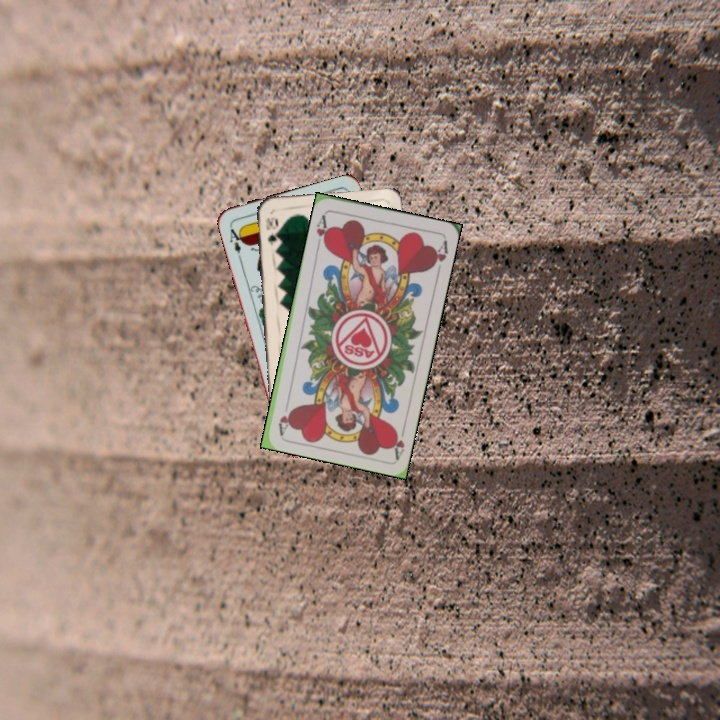EA: (225, 222, 246, 256)
G10: (262, 213, 279, 248)
HA: (387, 420, 408, 461), (312, 211, 332, 251)
